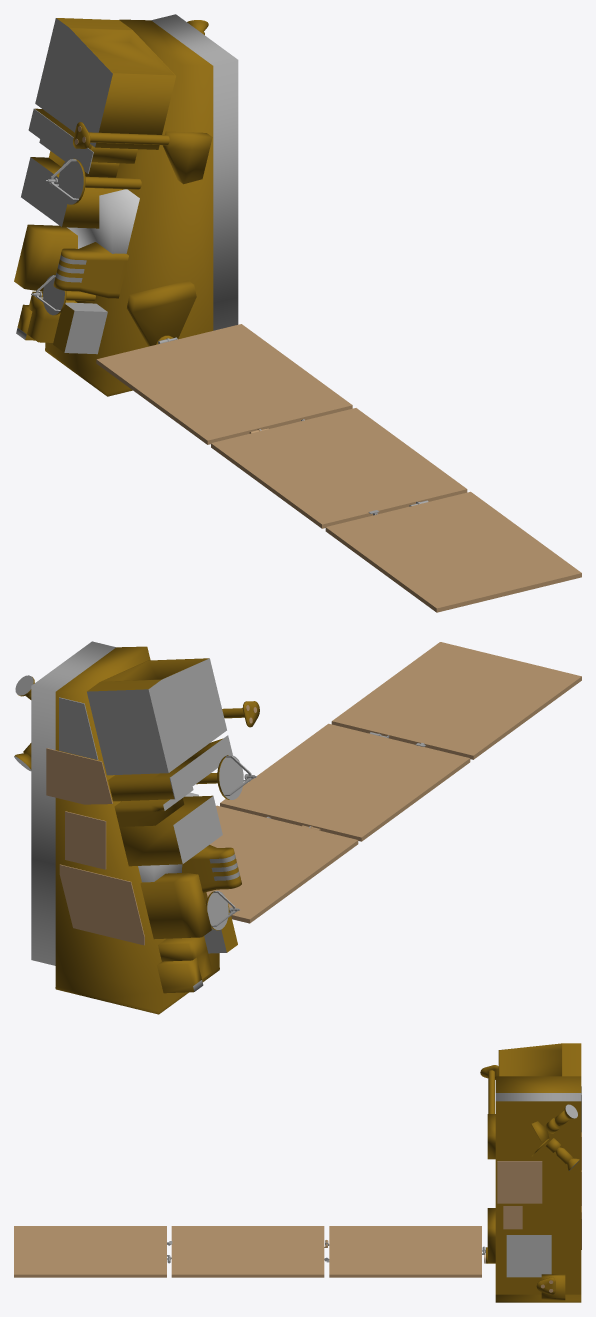
File: NPP.obj
3 renders of one model, top to bottom at view 1: azimuth 30°, elevation 25°; view 2: azimuth 150°, elevation 25°; view 3: azimuth 270°, elevation 25°, orthographic. The views are drawn at different scales.
Parts seen in each view (by area): view 1: tex_01_Cube.027_tex_01_tex_01.png, foil_gold_Cube.016_foil_gold, tex_02_Cube.041_tex_02, foil_gold_Cube.016_foil_gold_NPP_paper_01.jpg.001, foil_gold_Cube.016_foil_gold_tex_02.png, _root_Cube.004_None, foil_gold_Cube.016_foil_gold_tex_01.png, AO_01_Cylinder.025_AO_01; view 2: tex_01_Cube.027_tex_01_tex_01.png, foil_gold_Cube.016_foil_gold, tex_02_Cube.041_tex_02, AO_01_Cylinder.025_AO_01, foil_gold_Cube.016_foil_gold_tex_02.png, foil_gold_Cube.016_foil_gold_NPP_paper_01.jpg.001, _root_Cube.004_None; view 3: tex_01_Cube.027_tex_01_tex_01.png, foil_gold_Cube.016_foil_gold, foil_gold_Cube.016_foil_gold_NPP_paper_01.jpg.001, tex_01_Cube.027_tex_01, tex_02_Cube.041_tex_02.
Boxes of the visible parts, bbox=[...] form: tex_01_Cube.027_tex_01_tex_01.png: bbox=[74, 126, 581, 612]; foil_gold_Cube.016_foil_gold: bbox=[14, 18, 213, 396]; tex_02_Cube.041_tex_02: bbox=[21, 14, 238, 354]; foil_gold_Cube.016_foil_gold_NPP_paper_01.jpg.001: bbox=[73, 20, 212, 346]; foil_gold_Cube.016_foil_gold_tex_02.png: bbox=[53, 242, 128, 298]; _root_Cube.004_None: bbox=[67, 189, 139, 253]; foil_gold_Cube.016_foil_gold_tex_01.png: bbox=[66, 132, 173, 344]; AO_01_Cylinder.025_AO_01: bbox=[31, 158, 83, 315]; tex_01_Cube.027_tex_01_tex_01.png: bbox=[46, 642, 581, 945]; foil_gold_Cube.016_foil_gold: bbox=[55, 646, 237, 1014]; tex_02_Cube.041_tex_02: bbox=[31, 641, 232, 965]; AO_01_Cylinder.025_AO_01: bbox=[14, 675, 256, 929]; foil_gold_Cube.016_foil_gold_tex_02.png: bbox=[182, 845, 241, 892]; foil_gold_Cube.016_foil_gold_NPP_paper_01.jpg.001: bbox=[15, 677, 259, 769]; _root_Cube.004_None: bbox=[138, 792, 198, 882]; tex_01_Cube.027_tex_01_tex_01.png: bbox=[14, 1132, 581, 1292]; foil_gold_Cube.016_foil_gold: bbox=[495, 1043, 581, 1302]; foil_gold_Cube.016_foil_gold_NPP_paper_01.jpg.001: bbox=[480, 1065, 579, 1300]; tex_01_Cube.027_tex_01: bbox=[506, 1235, 551, 1277]; tex_02_Cube.041_tex_02: bbox=[495, 1086, 581, 1132].
Size of the model in its own units: 2.57 by 4.18 by 8.96.
